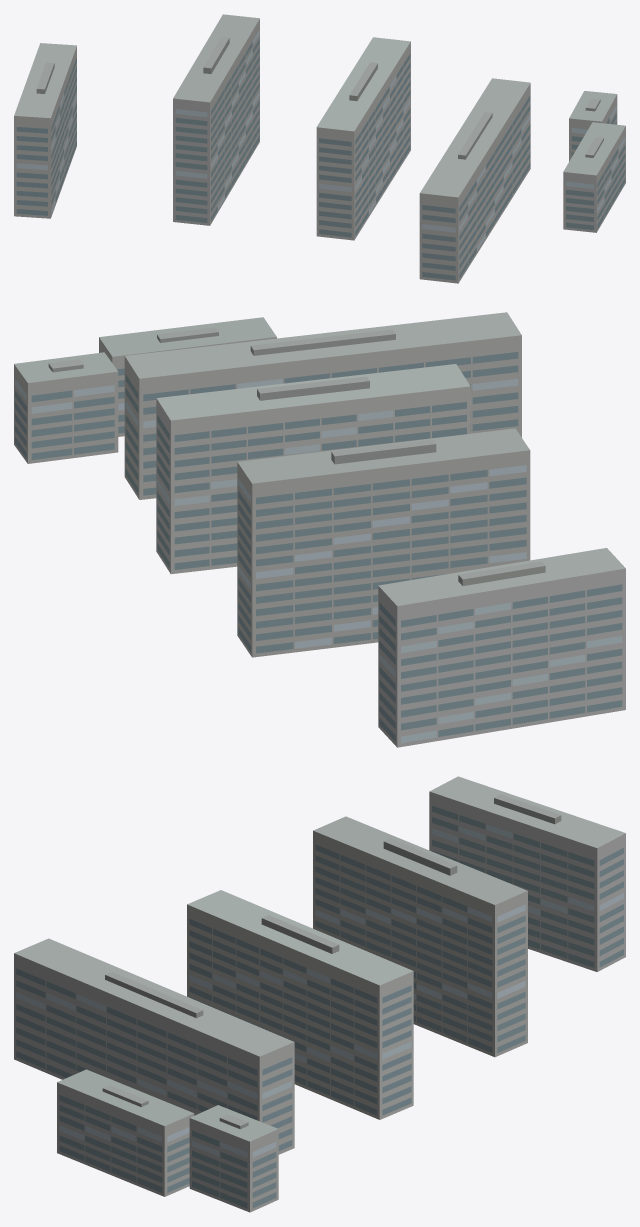
File: apt-a12201103.glb
The picture shows the model from 3 angles, top to bottom: view 1: azimuth 30°, elevation 25°; view 2: azimuth 150°, elevation 25°; view 3: azimuth 270°, elevation 25°; orthographic projection. The views are drawn at different scales.
Parts seen in each view (by area): view 1: apt-a12201103; view 2: apt-a12201103; view 3: apt-a12201103.
Boxes of the visible parts, left/top/right/bottom form: apt-a12201103: left=14, top=14, right=625, bottom=283; apt-a12201103: left=14, top=312, right=625, bottom=747; apt-a12201103: left=14, top=776, right=625, bottom=1212.
Bounding box in the file's own units: 181 × 43 × 150.
